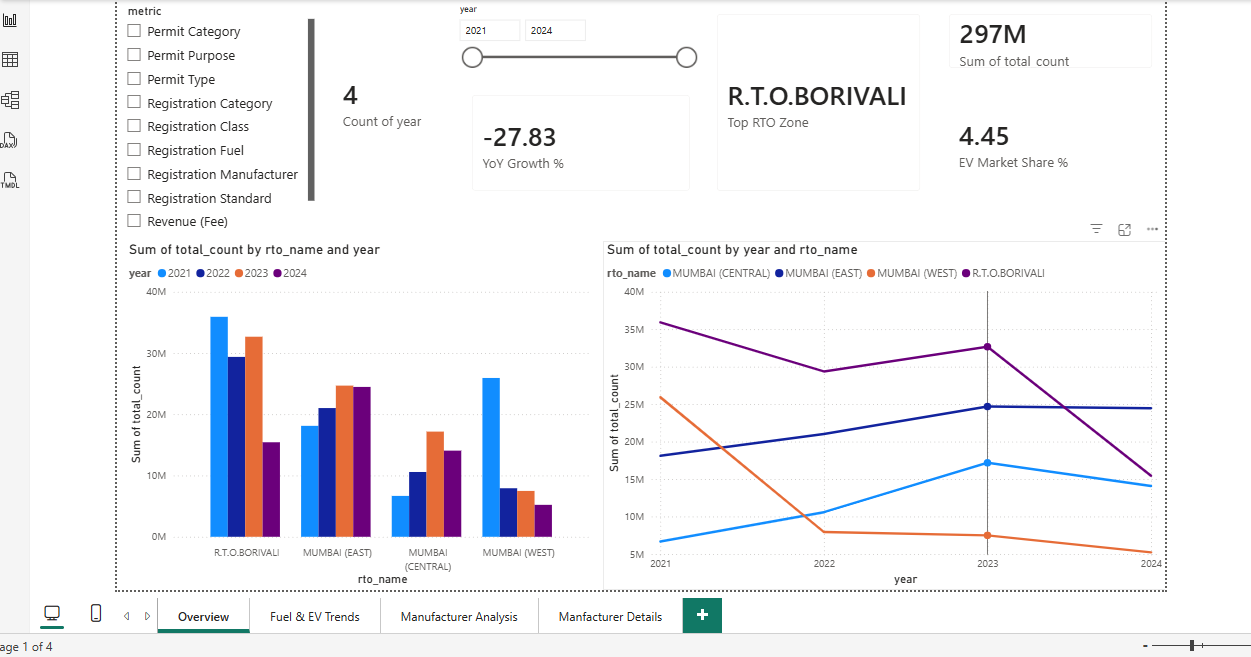

The dashboard page shown, as its layout file describes it:
{"tool":"powerbi","page":{"name":"Overview","canvas":[1280,720],"ordinal":0},"visuals":[{"type":"cardVisual","fields":{"Data":["Sum(master_summary.total_count)"]},"box":[997.8,0,282.2,100.5],"z":0},{"type":"cardVisual","fields":{"Data":["Count(master_summary.year)"]},"box":[246.4,0,158.3,250.5],"z":1000},{"type":"clusteredColumnChart","fields":{"Category":["master_summary.rto_name"],"Y":["Sum(master_summary.total_count)"],"Series":["master_summary.year"]},"box":[9.6,294.5,573.9,425.3],"z":2000},{"type":"slicer","fields":{"Values":["master_summary.year"]},"box":[404.6,0,311.1,100.5],"z":3000},{"type":"lineChart","fields":{"Category":["master_summary.year"],"Y":["Sum(master_summary.total_count)"],"Series":["master_summary.rto_name"]},"box":[593.2,294.5,686.8,425.3],"z":4000},{"type":"slicer","fields":{"Values":["master_summary.metric"]},"box":[0,0,246.4,294.5],"z":5000},{"type":"cardVisual","fields":{"Data":["master_summary.YoY Growth %"]},"box":[415.7,99.1,300,151.4],"z":5001},{"type":"cardVisual","fields":{"Data":["ev_fuel_trends.EV Market Share %"]},"box":[997.8,100.5,282.2,150],"z":5002},{"type":"cardVisual","fields":{"Data":["master_summary.Top RTO Zone"]},"box":[715.7,0,282.2,250.5],"z":5003}]}

Visuals, with their boxes on the page's 1280x720 design canvas (x1, y1, x2, y2). These are canvas units, not pixel positions in the 1251x657 screenshot, which may show the page scaled, cropped or inside an application window:
cardVisual - Sum(master_summary.total_count): x1=998 y1=0 x2=1280 y2=100
cardVisual - Count(master_summary.year): x1=246 y1=0 x2=405 y2=250
clusteredColumnChart - master_summary.rto_name x Sum(master_summary.total_count): x1=10 y1=294 x2=584 y2=720
slicer - master_summary.year: x1=405 y1=0 x2=716 y2=100
lineChart - master_summary.year x Sum(master_summary.total_count): x1=593 y1=294 x2=1280 y2=720
slicer - master_summary.metric: x1=0 y1=0 x2=246 y2=294
cardVisual - master_summary.YoY Growth %: x1=416 y1=99 x2=716 y2=250
cardVisual - ev_fuel_trends.EV Market Share %: x1=998 y1=100 x2=1280 y2=250
cardVisual - master_summary.Top RTO Zone: x1=716 y1=0 x2=998 y2=250
